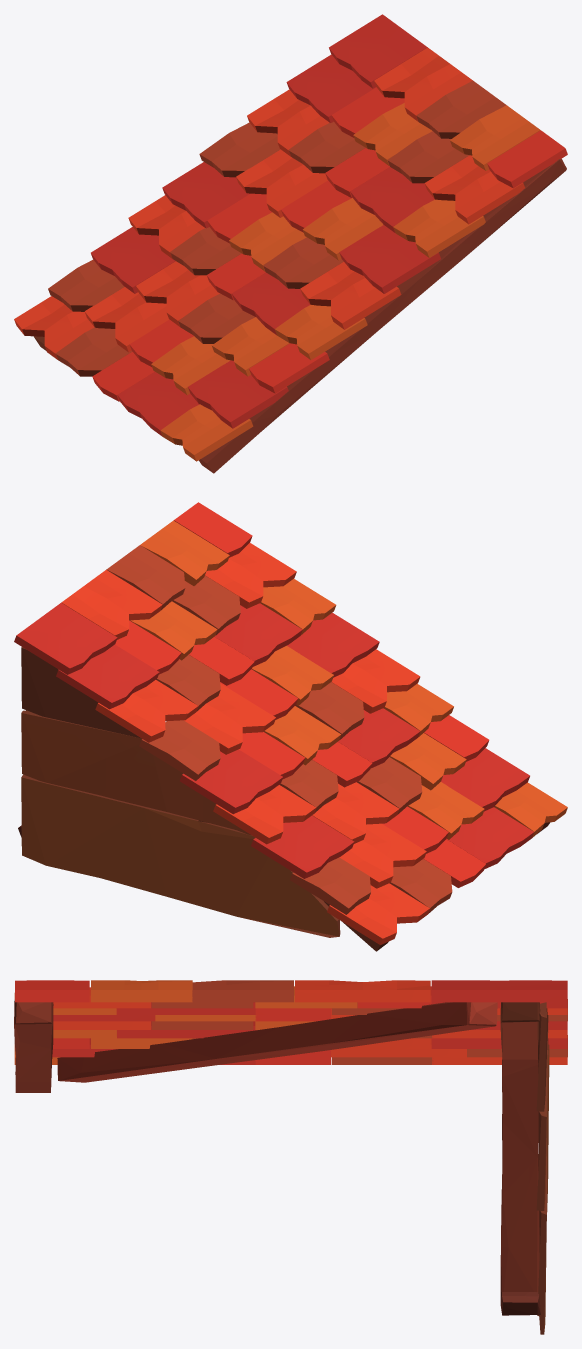
File: Shingles angle.fbx
3 views of the same model, one above another, from view 1: azimuth 30°, elevation 25°; view 2: azimuth 150°, elevation 25°; view 3: azimuth 270°, elevation 25° (orthographic). The views are drawn at different scales.
Visible parts, largest first — view 1: Shingles angle; view 2: Shingles angle; view 3: Shingles angle.
Boxes of the visible parts, x1,y1,x2,y2 form: Shingles angle: [14, 14, 567, 473]; Shingles angle: [14, 502, 567, 951]; Shingles angle: [14, 980, 567, 1334].
Size of the model in its own units: 3.59 by 2.16 by 3.
